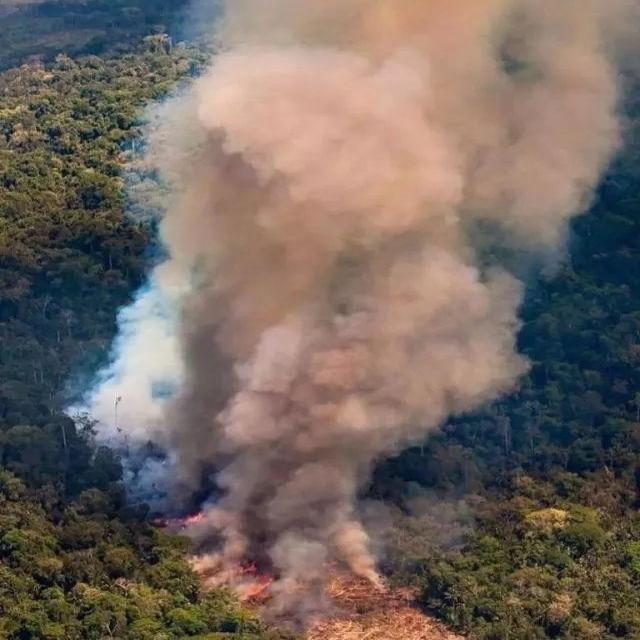Fire: (234, 562, 272, 602)
Smoke: (50, 1, 640, 632)
